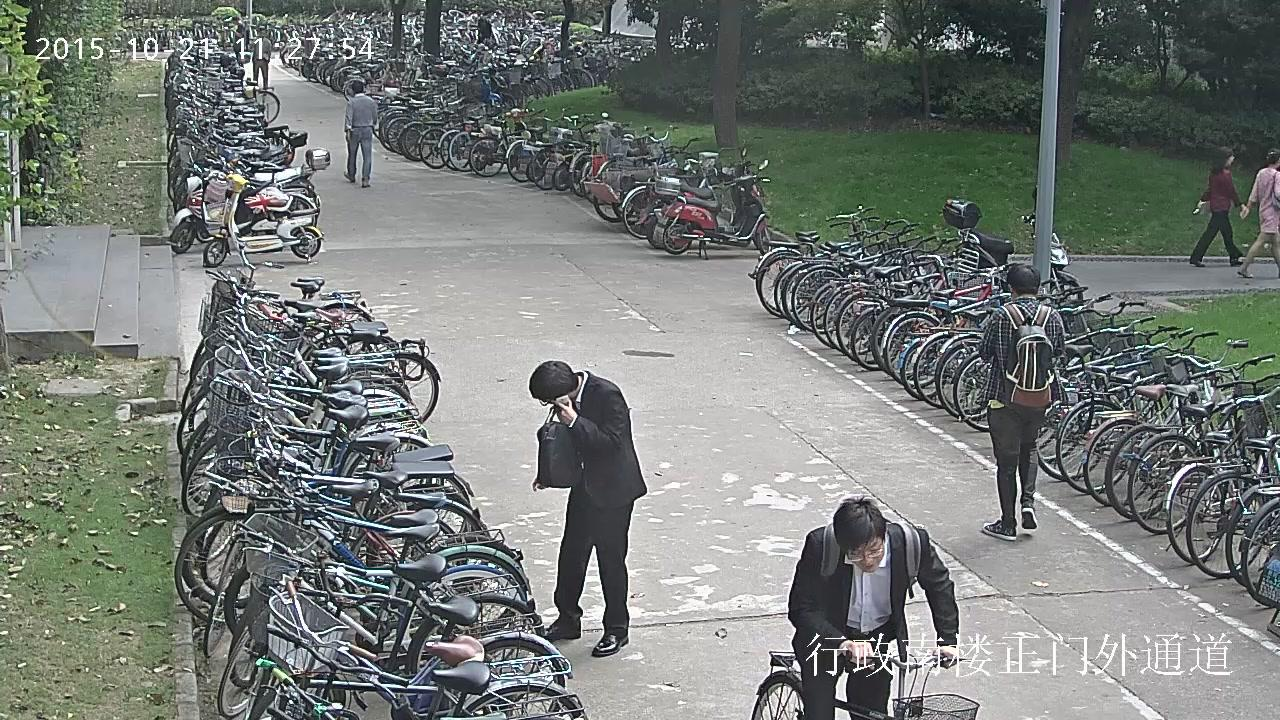face: (846, 537, 884, 574), (1227, 154, 1234, 165), (257, 28, 263, 36), (232, 20, 239, 25)
